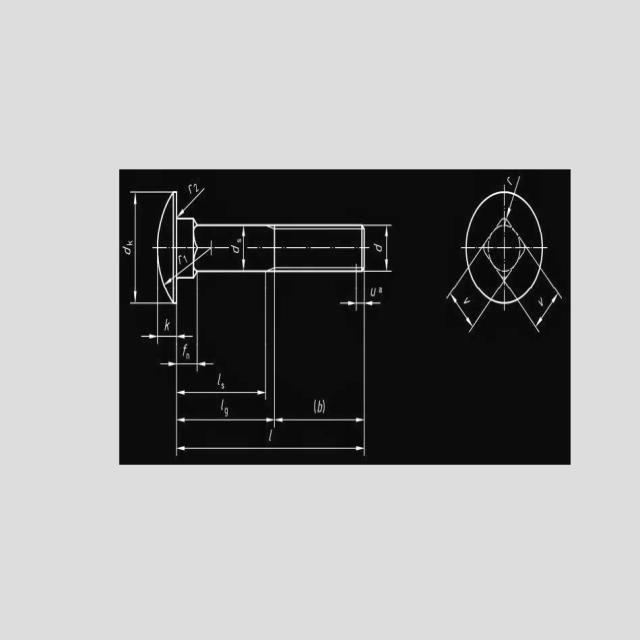marking_line: (275, 311, 370, 426), (170, 426, 372, 457), (174, 366, 268, 400), (129, 191, 156, 309), (175, 398, 275, 423), (444, 276, 488, 330), (158, 340, 215, 369), (339, 273, 384, 307), (531, 287, 563, 334), (364, 224, 393, 273), (179, 188, 207, 218), (505, 176, 520, 218), (139, 334, 194, 339), (241, 226, 247, 270)
numeric: (312, 398, 327, 415), (367, 283, 382, 299), (122, 238, 133, 256), (219, 399, 229, 416), (215, 371, 225, 388), (187, 181, 199, 194), (182, 344, 191, 361), (372, 240, 383, 253), (179, 253, 189, 265), (536, 295, 546, 307), (163, 317, 171, 331), (267, 429, 273, 444), (231, 244, 240, 254), (463, 295, 471, 305), (507, 176, 512, 188), (237, 237, 242, 245)
